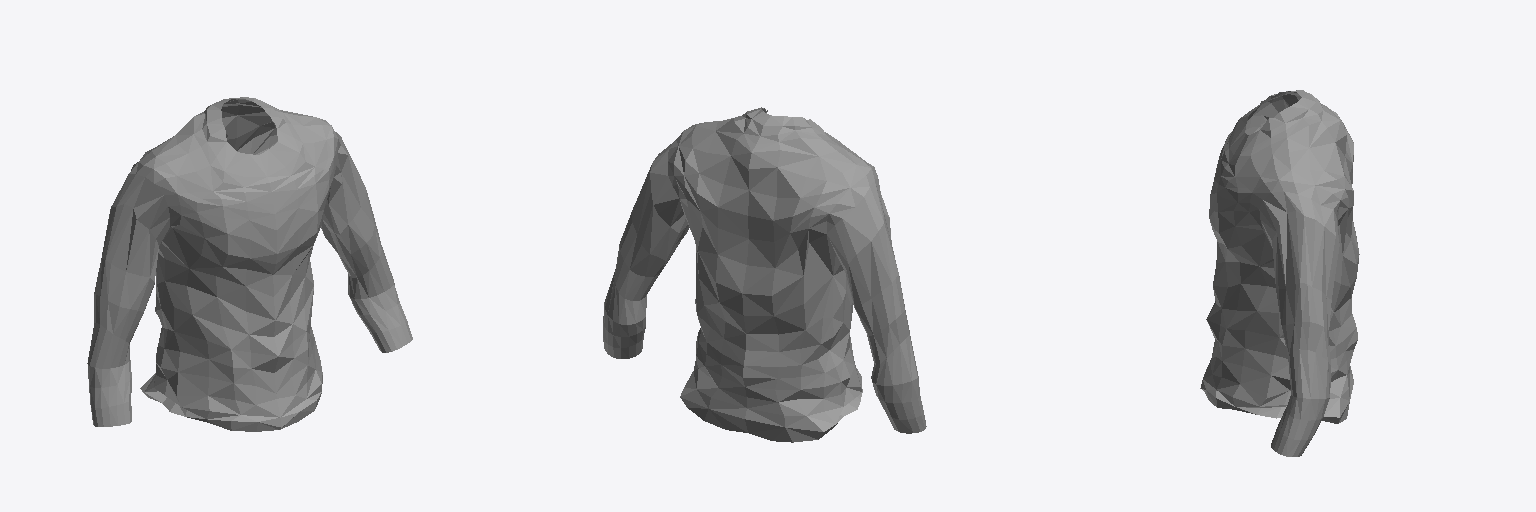
File: genser.obj
The picture shows the model from 3 angles: view 1: azimuth 30°, elevation 25°; view 2: azimuth 150°, elevation 25°; view 3: azimuth 270°, elevation 25°; orthographic projection.
Parts seen in each view (by area): view 1: Sweater; view 2: Sweater; view 3: Sweater.
Part boxes in pixels (left/top/right/bottom): Sweater: left=87, top=97, right=412, bottom=431; Sweater: left=603, top=107, right=926, bottom=442; Sweater: left=1200, top=90, right=1359, bottom=456.
Size of the model in its own units: 4.72 by 4.3 by 2.04.